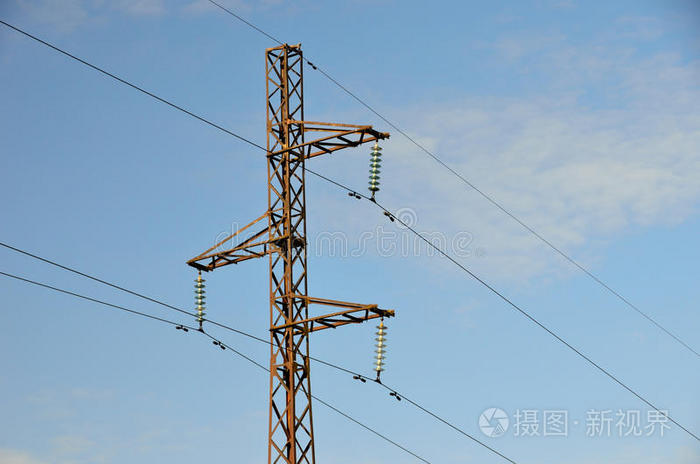insulator: (374, 323, 392, 374), (367, 144, 385, 192), (193, 276, 208, 323)
